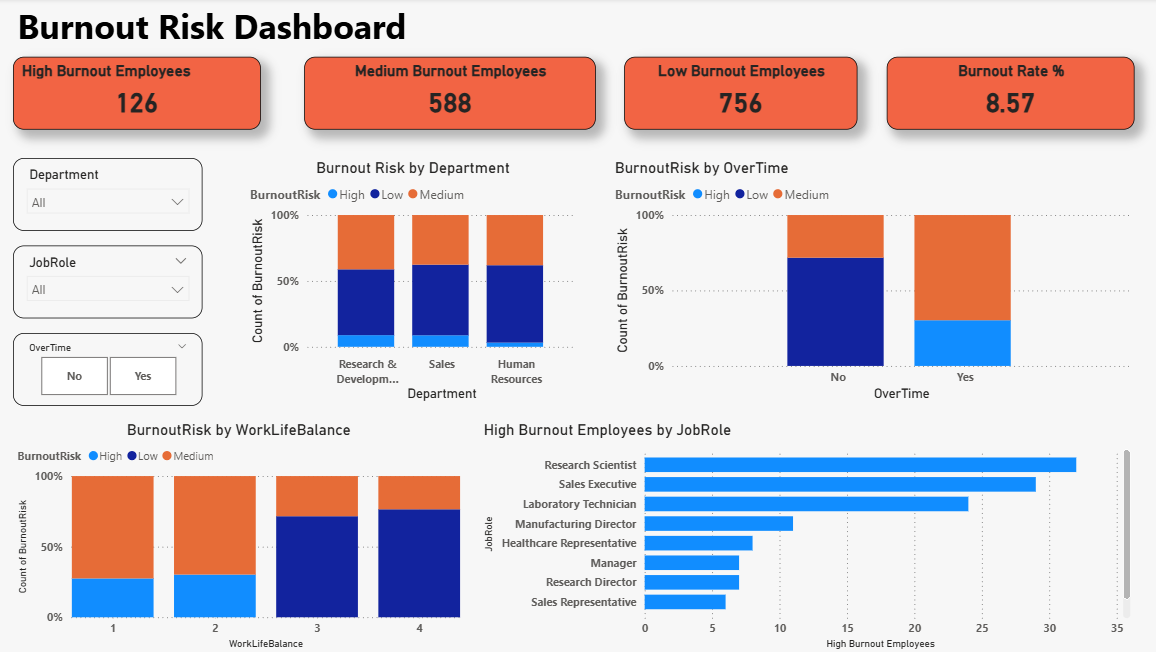

Layout of this report page (visuals, bound fields, positions):
{"tool":"powerbi","page":{"name":"Page 2","canvas":[1280,720],"ordinal":1},"visuals":[{"type":"card","title":"High Burnout Employees","fields":{"Values":["Palo_Alto_Cleaned.High Burnout Employees"]},"box":[16,64,272,80],"z":0},{"type":"card","title":"Burnout Rate %","fields":{"Values":["Palo_Alto_Cleaned.Burnout Rate"]},"box":[976,64,272,80],"z":1000},{"type":"card","title":"Low Burnout Employees","fields":{"Values":["Palo_Alto_Cleaned.Low Burnout Employees"]},"box":[688,64,256,80],"z":2000},{"type":"card","title":"Medium Burnout Employees","fields":{"Values":["Palo_Alto_Cleaned.Medium Burnout Employees"]},"box":[336,64,320,80],"z":3000},{"type":"slicer","fields":{"Values":["Palo_Alto_Cleaned.Department"]},"box":[16,176,208,80],"z":4000},{"type":"slicer","fields":{"Values":["Palo_Alto_Cleaned.OverTime"]},"box":[16,368,208,80],"z":5000},{"type":"slicer","fields":{"Values":["Palo_Alto_Cleaned.JobRole"]},"box":[16,272,208,80],"z":6000},{"type":"hundredPercentStackedColumnChart","title":" Burnout Risk by Department","fields":{"Category":["Palo_Alto_Cleaned.Department"],"Y":["CountNonNull(Palo_Alto_Cleaned.BurnoutRisk)"],"Series":["Palo_Alto_Cleaned.BurnoutRisk"]},"box":[272,176,368,272],"z":7000},{"type":"hundredPercentStackedColumnChart","title":"BurnoutRisk by OverTime","fields":{"Category":["Palo_Alto_Cleaned.OverTime"],"Y":["CountNonNull(Palo_Alto_Cleaned.BurnoutRisk)"],"Series":["Palo_Alto_Cleaned.BurnoutRisk"]},"box":[672,176,576,272],"z":8000},{"type":"hundredPercentStackedColumnChart","title":"BurnoutRisk by WorkLifeBalance","fields":{"Category":["Palo_Alto_Cleaned.WorkLifeBalance"],"Y":["CountNonNull(Palo_Alto_Cleaned.BurnoutRisk)"],"Series":["Palo_Alto_Cleaned.BurnoutRisk"]},"box":[16,464,496,256],"z":9000},{"type":"clusteredBarChart","fields":{"Category":["Palo_Alto_Cleaned.JobRole"],"Y":["Palo_Alto_Cleaned.High Burnout Employees"]},"box":[528,464,720,256],"z":10000},{"type":"textbox","box":[16,0,736,64],"z":10001}]}

Visuals, with their boxes in screenshot pixels (x1, y1, x2, y2), scaled from the page's 1280x720 canvas onto the 1156x652 screenshot:
"High Burnout Employees" card: box=[14, 58, 260, 130]
"Burnout Rate %" card: box=[881, 58, 1127, 130]
"Low Burnout Employees" card: box=[621, 58, 853, 130]
"Medium Burnout Employees" card: box=[303, 58, 592, 130]
slicer - Palo_Alto_Cleaned.Department: box=[14, 159, 202, 232]
slicer - Palo_Alto_Cleaned.OverTime: box=[14, 333, 202, 406]
slicer - Palo_Alto_Cleaned.JobRole: box=[14, 246, 202, 319]
" Burnout Risk by Department" hundredPercentStackedColumnChart: box=[246, 159, 578, 406]
"BurnoutRisk by OverTime" hundredPercentStackedColumnChart: box=[607, 159, 1127, 406]
"BurnoutRisk by WorkLifeBalance" hundredPercentStackedColumnChart: box=[14, 420, 462, 651]
clusteredBarChart - Palo_Alto_Cleaned.JobRole x Palo_Alto_Cleaned.High Burnout Employees: box=[477, 420, 1127, 651]
textbox: box=[14, 0, 679, 58]
